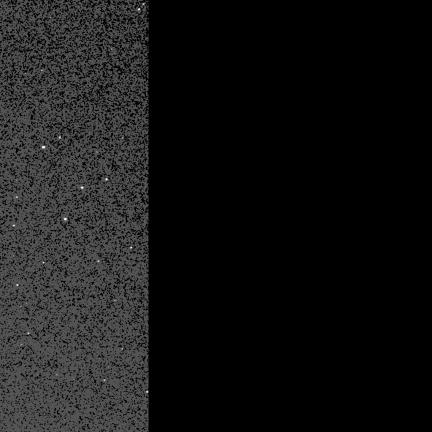blob: (42, 146, 46, 149), (64, 218, 68, 221), (16, 196, 19, 199), (81, 187, 84, 190), (146, 391, 149, 394), (106, 178, 108, 181), (13, 225, 16, 227), (60, 136, 62, 139), (130, 247, 133, 249), (17, 284, 19, 287), (138, 9, 141, 11), (104, 380, 106, 382), (98, 261, 100, 263), (28, 333, 30, 335), (43, 262, 45, 264), (21, 344, 23, 346)
